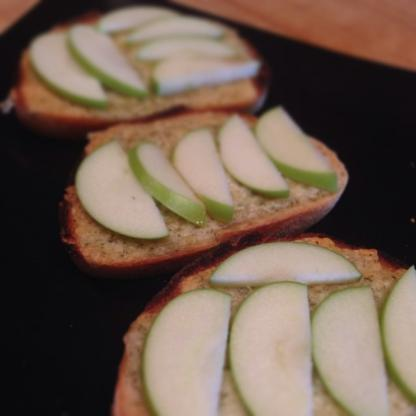Apple: (27, 5, 264, 110), (139, 290, 234, 416), (228, 280, 314, 416), (310, 287, 390, 415), (74, 139, 168, 240), (252, 108, 341, 194), (210, 242, 361, 289), (127, 138, 206, 226), (217, 110, 290, 198), (170, 129, 233, 221), (380, 265, 416, 402)
Pear: (138, 290, 235, 416), (229, 282, 312, 416), (309, 286, 388, 415), (74, 142, 168, 243), (256, 109, 338, 193), (208, 240, 361, 285), (132, 144, 208, 230), (27, 34, 110, 108), (68, 22, 148, 98), (217, 116, 289, 199), (170, 129, 233, 223), (155, 50, 260, 100), (381, 265, 415, 401), (125, 17, 222, 41), (99, 10, 182, 32), (136, 41, 235, 59)
